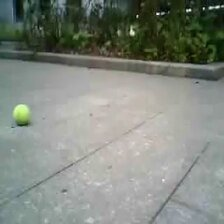tennis: (12, 103, 29, 124)
